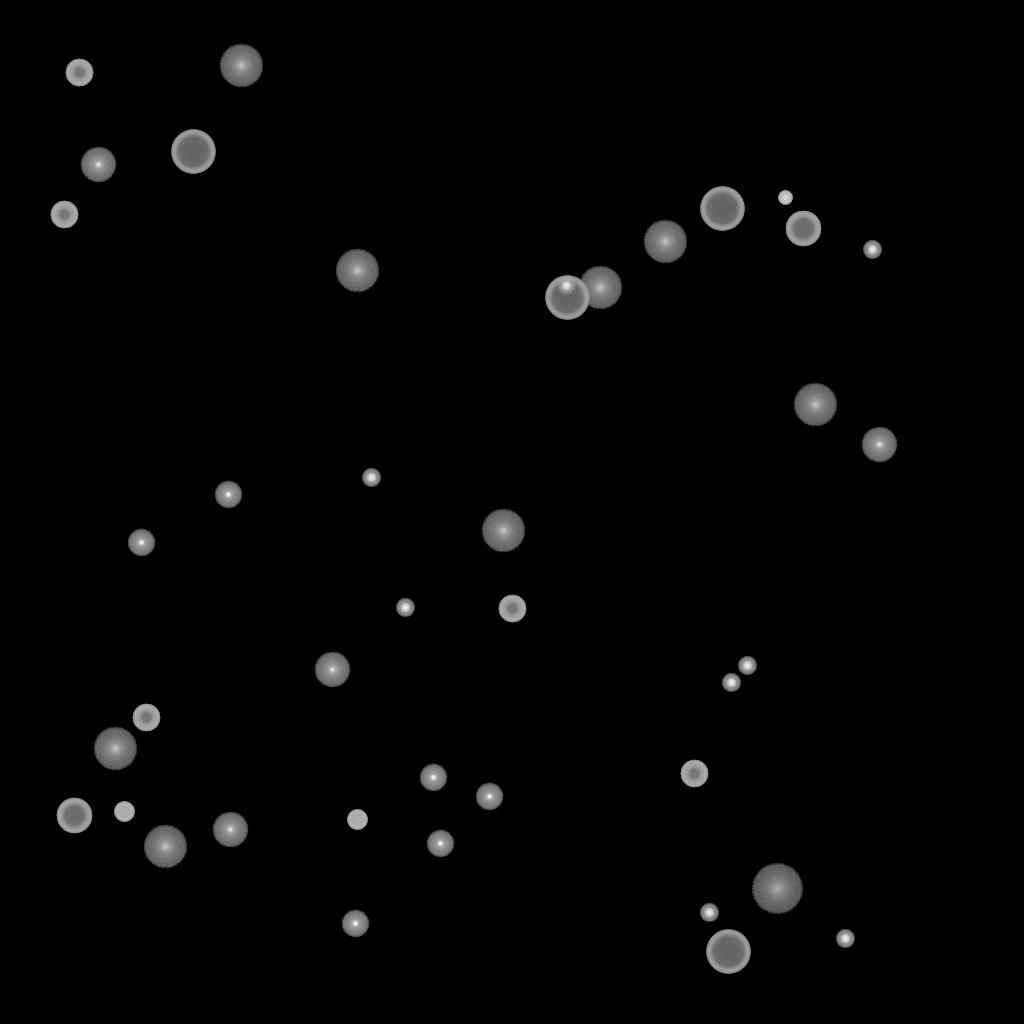depth:-10: (419, 764, 447, 792), (341, 910, 369, 938), (214, 481, 242, 509), (475, 783, 503, 811), (127, 529, 155, 557), (426, 830, 454, 858)
depth:-20: (700, 904, 718, 922), (396, 599, 414, 617), (557, 277, 575, 295), (836, 930, 854, 948), (722, 674, 740, 692), (362, 469, 380, 487), (863, 241, 881, 259), (738, 657, 756, 675)
depth:-30: (778, 191, 792, 205)
depth:-40: (114, 802, 134, 822), (347, 810, 367, 830)
depth:-50: (50, 201, 78, 229), (65, 59, 93, 87), (498, 595, 526, 623), (132, 704, 160, 732), (680, 760, 708, 788)
depth:-60: (785, 211, 821, 247), (56, 798, 92, 834)
depth:-70: (706, 930, 750, 974), (700, 187, 744, 231), (545, 276, 589, 320), (171, 130, 215, 174)
depth:0: (861, 427, 897, 463), (314, 652, 350, 688), (80, 147, 116, 183), (212, 812, 248, 848)
depth:10: (643, 220, 687, 264), (481, 509, 525, 553), (143, 825, 187, 869), (793, 383, 837, 427), (219, 44, 263, 88), (335, 249, 379, 293), (578, 266, 622, 310), (93, 727, 137, 771)
depth:20: (751, 864, 803, 914)
